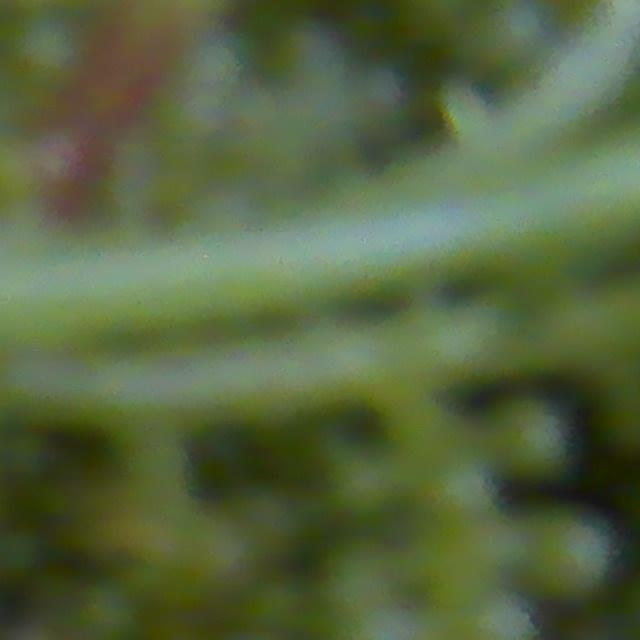SeaGrape: (524, 507, 618, 591), (492, 384, 564, 485), (8, 11, 91, 93), (469, 7, 551, 80), (420, 447, 495, 526), (74, 579, 143, 640), (462, 590, 536, 640)
